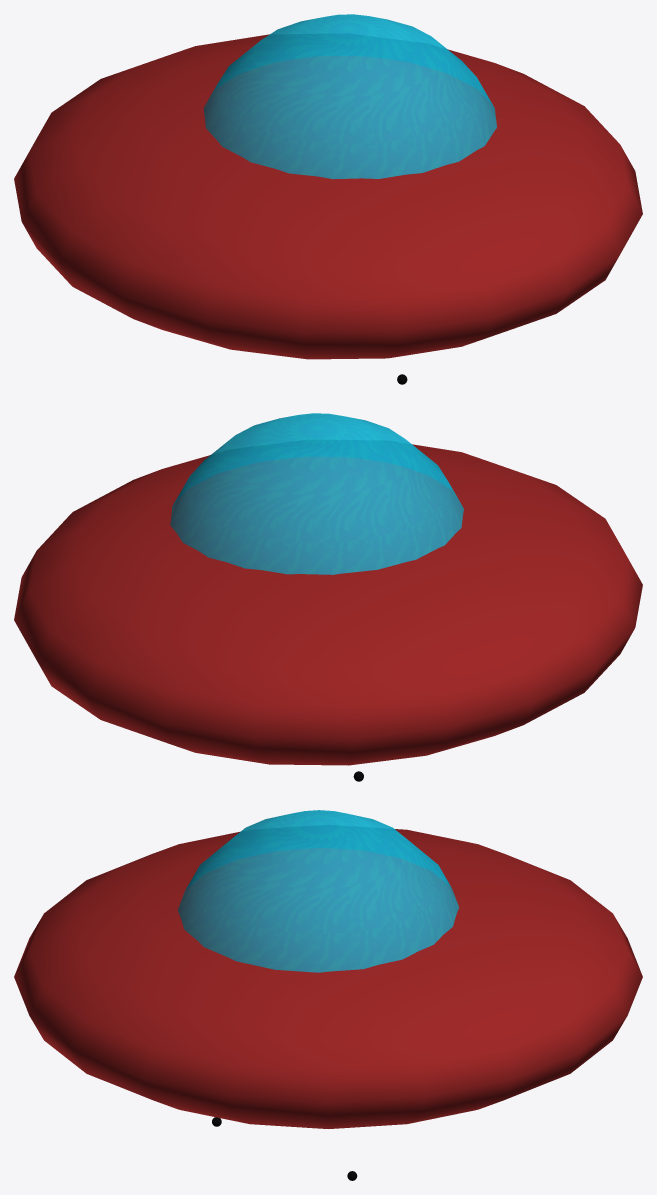
3 renders of one model, top to bottom at view 1: azimuth 30°, elevation 25°; view 2: azimuth 150°, elevation 25°; view 3: azimuth 270°, elevation 25°, orthographic. The views are drawn at different scales.
Parts seen in each view (by area): view 1: SimpleSphere02 (×2); view 2: SimpleSphere02 (×2); view 3: SimpleSphere02 (×2).
Boxes of the visible parts, left/top/right/bottom form: SimpleSphere02 (×2): left=14, top=14, right=642, bottom=359; SimpleSphere02 (×2): left=14, top=413, right=642, bottom=765; SimpleSphere02 (×2): left=14, top=810, right=642, bottom=1128.
Bounding box in the file's own units: 519 × 549 × 295.
3 materials, 1 textured.
